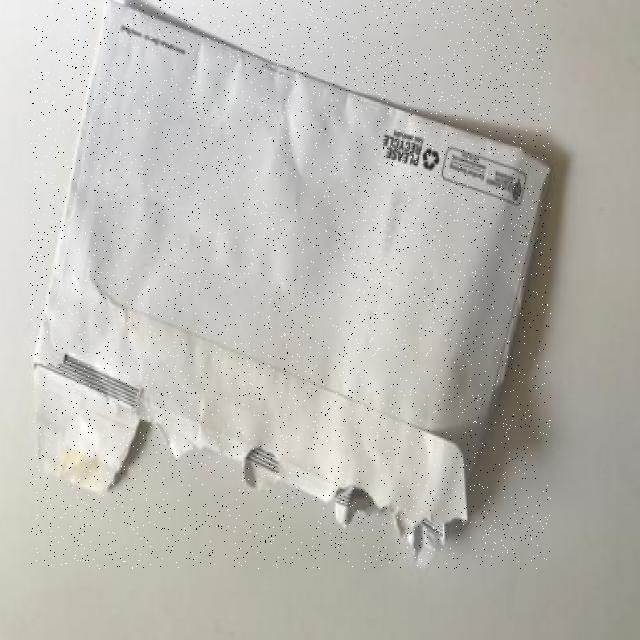paper: (31, 0, 551, 569)
